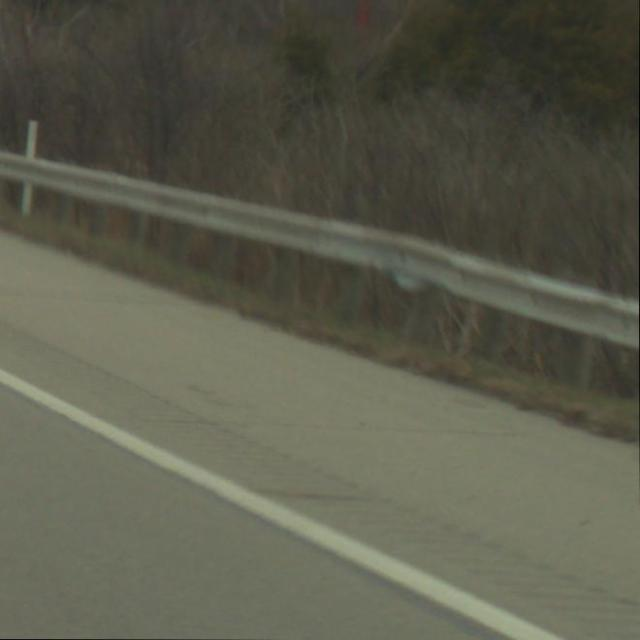Guard rail: (0, 142, 640, 407)
